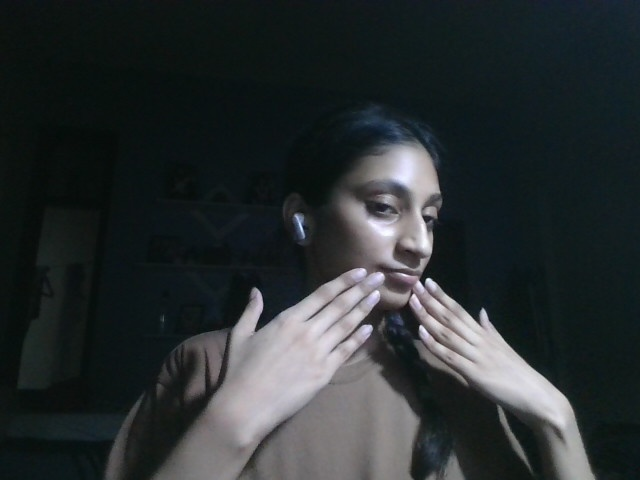thank you: (215, 266, 573, 433)
